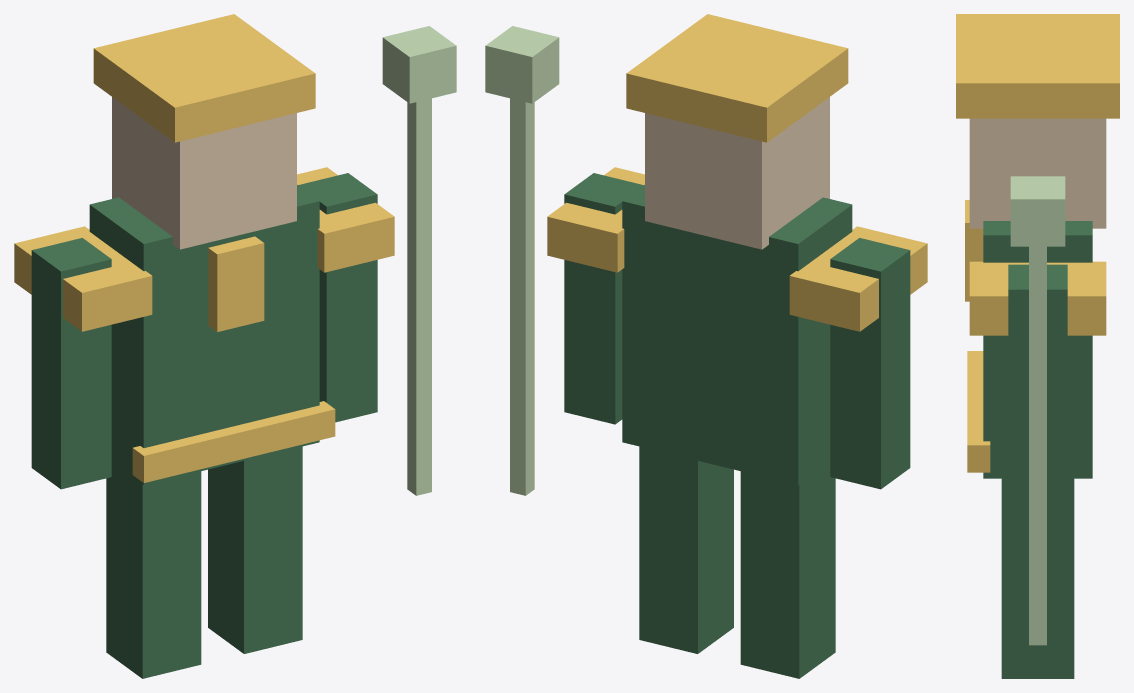
File: 01_edda_voidrill_pilgrim_under_listening.glb
The picture shows the model from 3 angles, left to right: view 1: azimuth 30°, elevation 25°; view 2: azimuth 150°, elevation 25°; view 3: azimuth 270°, elevation 25°; orthographic projection.
Parts seen in each view (by area): view 1: Edda Voidrill, Pilgrim under Listening; view 2: Edda Voidrill, Pilgrim under Listening; view 3: Edda Voidrill, Pilgrim under Listening.
Part boxes in pixels (<box>): Edda Voidrill, Pilgrim under Listening: <box>14,14,456,678</box>; Edda Voidrill, Pilgrim under Listening: <box>485,14,927,678</box>; Edda Voidrill, Pilgrim under Listening: <box>956,14,1119,678</box>.
Size of the model in its own units: 0.9904 by 1.4 by 0.3513.
